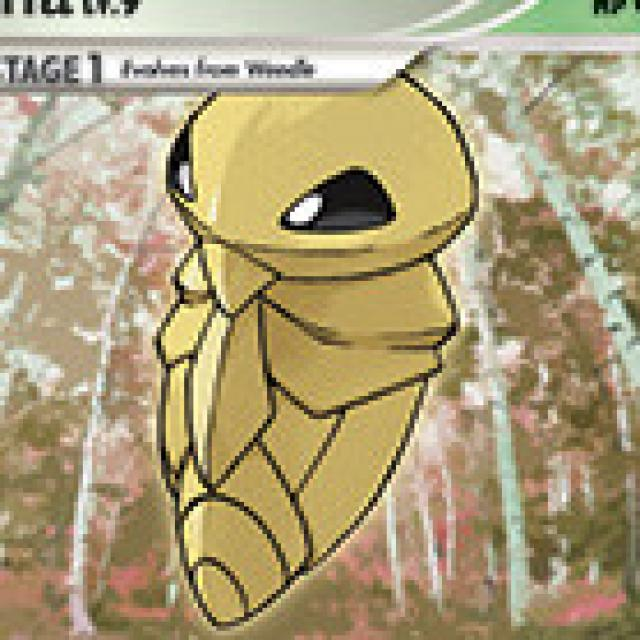Kakuna: (149, 90, 477, 628)
